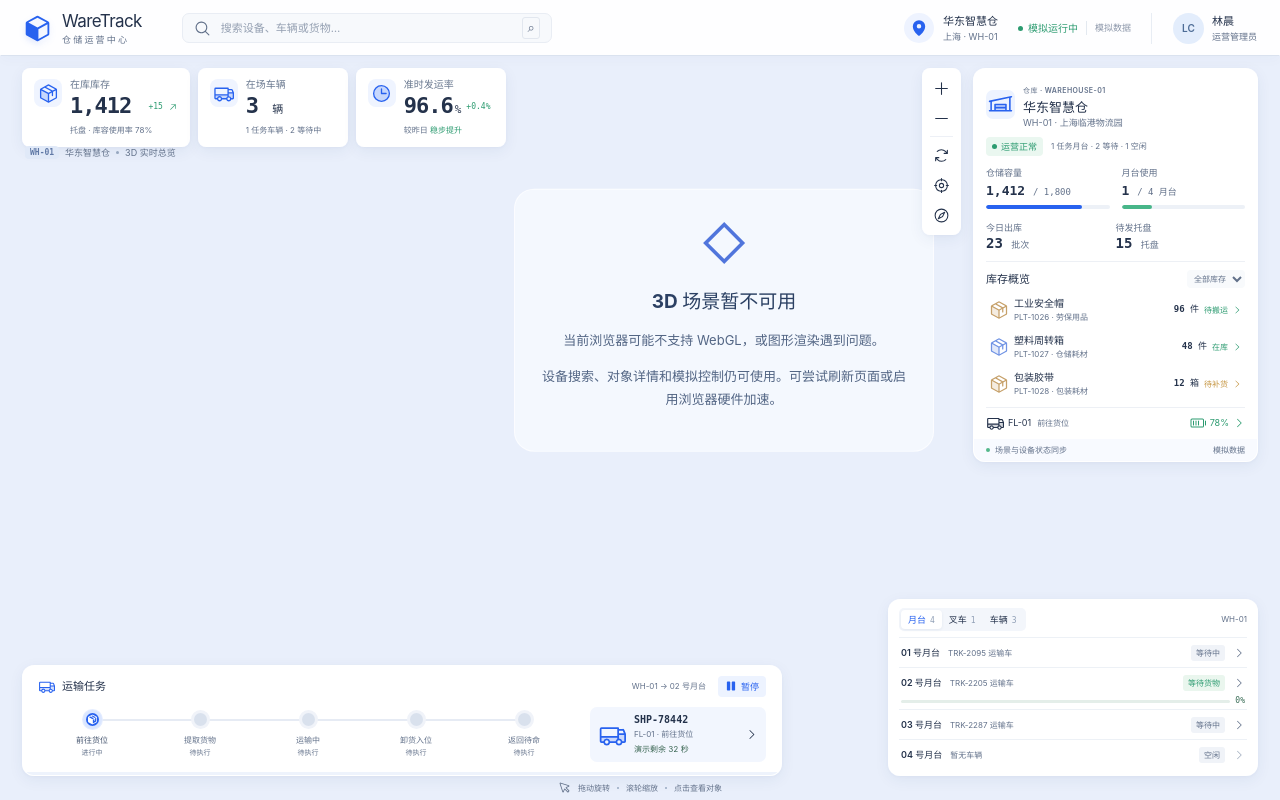
Test: keeps the dashboard usable when rendering the 3D scene fails
This screenshot has width=1280, height=800.
Expected: the message shows "3D 场景暂不可用", x1=652 y1=289 x2=796 y2=312
What coordinates should you click on to do the following:
click the button with aria-label "暂停模拟"
I would click on:
 (742, 686)
Its box is x1=718 y1=676 x2=766 y2=697.
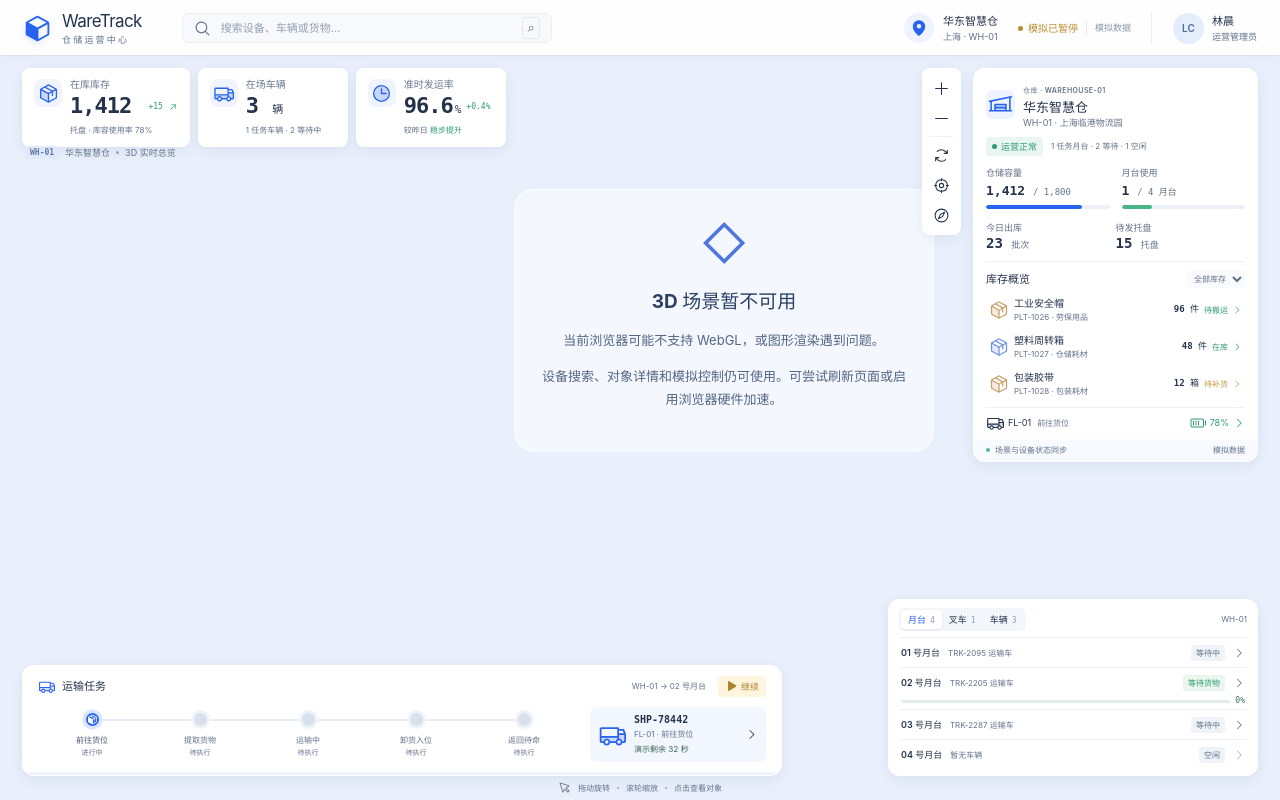
Now the button with aria-label "继续模拟" is shown, box x1=718 y1=676 x2=766 y2=697
